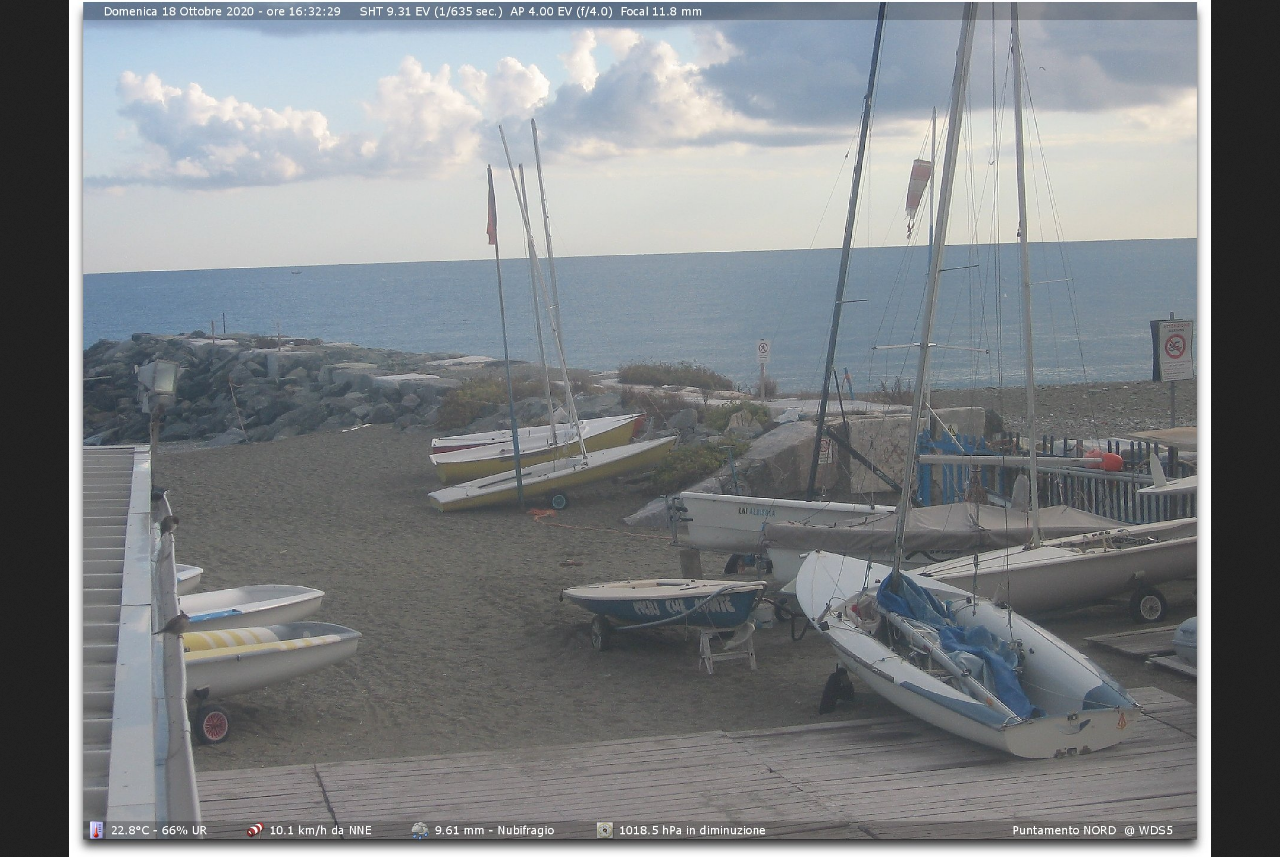no: (486, 171, 500, 247)
